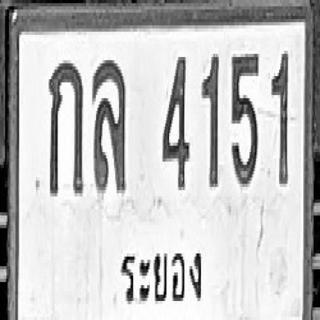A01: (48, 59, 82, 195)
A36: (92, 57, 126, 190)
N01: (201, 51, 219, 187), (270, 49, 288, 185)
N04: (161, 52, 189, 189)
N05: (230, 49, 259, 185)
P53: (117, 235, 206, 311)
